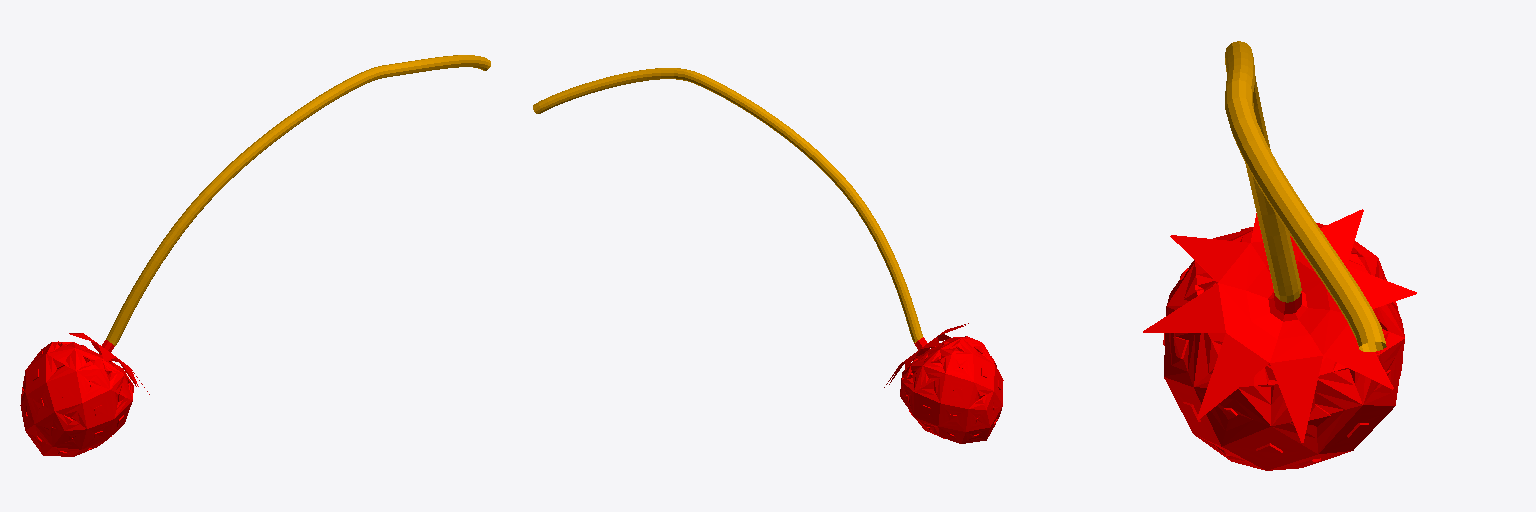
The robot description file, URDF, robot "strawberry_plant":
<?xml version="1.0"?>
<robot name="strawberry_plant">

  <!-- 主茎链接 -->
  <link name="branch">
    <visual>
      <origin xyz="0.0817 -0.24105 -0.26965"/> <!-- 根据缩放调整位置 -->
      <geometry>
        <mesh filename="second_straw_branch.stl" scale="0.05 0.05 0.05"/>
      </geometry>
    </visual>
    <collision>
      <origin xyz="0.0817 -0.24105 -0.26965"/> <!-- 根据缩放调整位置 -->
      <geometry>
        <mesh filename="second_straw_branch.stl" scale="0.05 0.05 0.05"/>
      </geometry>
    </collision>
    <inertial>
      <mass value="1.0"/>
      <inertia ixx="0.1" ixy="0.0" ixz="0.0" iyy="0.1" iyz="0.0" izz="0.1"/>
    </inertial>
  </link>

  <!-- 分枝1 -->
  <link name="fruit">
    <visual>
       <material name="red">
        <color rgba="1 0 0 1"/>
      </material>
      <origin xyz="0.0817 -0.24105 -0.26965"/> <!-- 根据缩放调整位置 -->
      <geometry>
        <mesh filename="second_straw_fruit.stl" scale="0.05 0.05 0.05"/>
      </geometry>
    </visual>
    <collision>
      <origin xyz="0.0817 -0.24105 -0.26965"/> <!-- 根据缩放调整位置 -->
      <geometry>
        <mesh filename="second_straw_fruit.stl" scale="0.05 0.05 0.05"/>
      </geometry>
    </collision>
    <inertial>
      <mass value="0.5"/>
      <inertia ixx="0.05" ixy="0.0" ixz="0.0" iyy="0.05" iyz="0.0" izz="0.05"/>
    </inertial>
  </link>


  <joint name="joint_branch2" type="fixed">
    <parent link="fruit"/>
    <child link="branch"/>
    <origin xyz="0 0 0"/> <!-- 根据缩放调整位置 -->
  </joint>

  <!-- 可以继续添加更多分枝和关节 -->
  
</robot>

--- Facts derived from the render (not from the file) ---
The picture shows the robot from 3 angles, left to right: view 1: azimuth 30°, elevation 25°; view 2: azimuth 150°, elevation 25°; view 3: azimuth 270°, elevation 25°; orthographic projection.
Robot: strawberry_plant — 2 links, 1 joints (1 fixed); root link fruit; default pose: every joint at zero.
Links seen in each view (by area): view 1: fruit, branch; view 2: fruit, branch; view 3: fruit, branch.
Boxes of the visible links, x1,y1,x2,y2 form: fruit: (20,333,149,456); branch: (106,55,490,345); fruit: (884,323,1003,443); branch: (533,68,922,342); fruit: (1143,209,1416,470); branch: (1225,41,1386,351).
Bounding box of the posed robot: 0.6207 × 0.1363 × 0.3902 m (x, y, z).
Meshes: 2 distinct files referenced, 2 mesh visuals loaded (2 binary STL).
